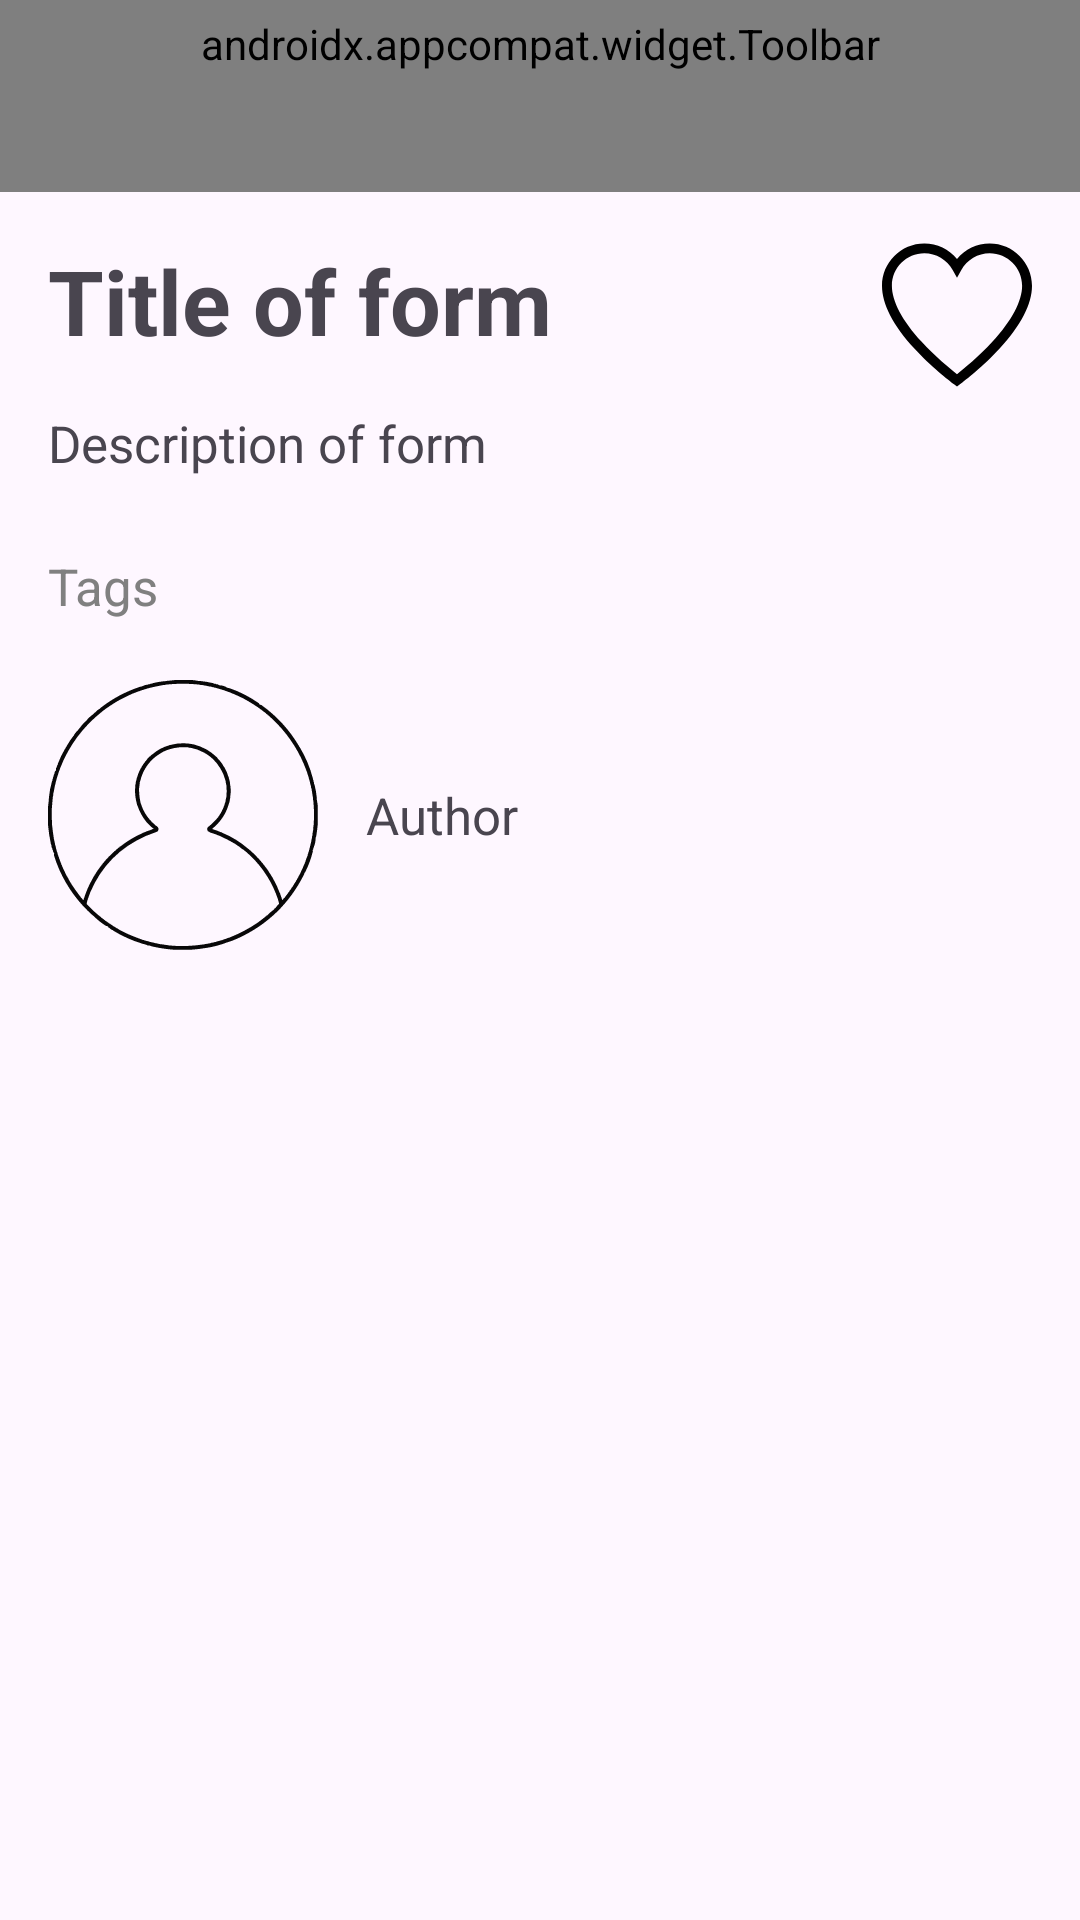

Icons on this 1080px×1920px Android screen, each with the point to tap as (x=x, y=y):
Tap to add form to favourite: (x=957, y=315)
